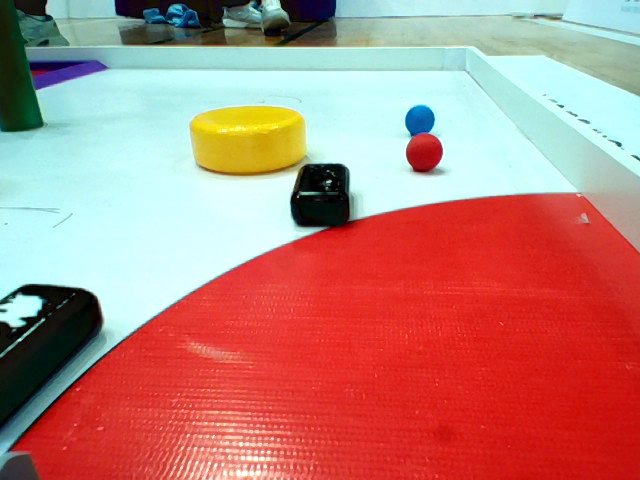black: (1, 273, 131, 451), (278, 163, 361, 241)
blue: (394, 94, 455, 140)
kuang: (20, 50, 131, 103)
red: (401, 132, 448, 175)
yellow: (163, 92, 319, 171)
zhuzi: (1, 1, 58, 142)
